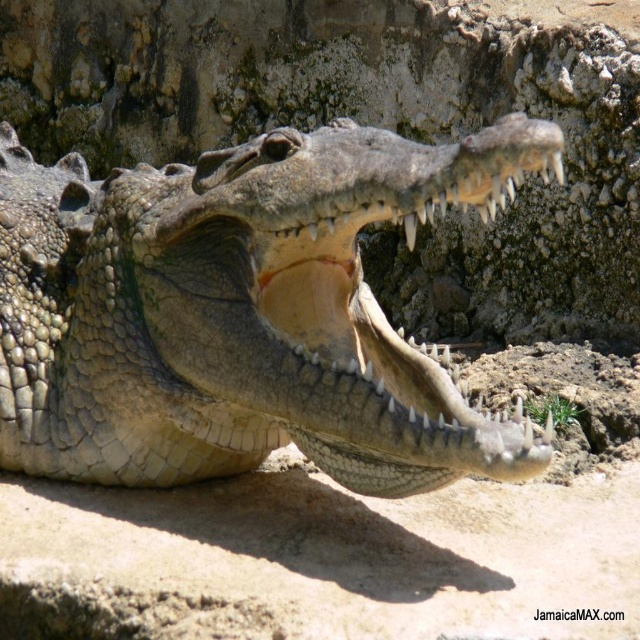Crocodile: (0, 111, 564, 499)
